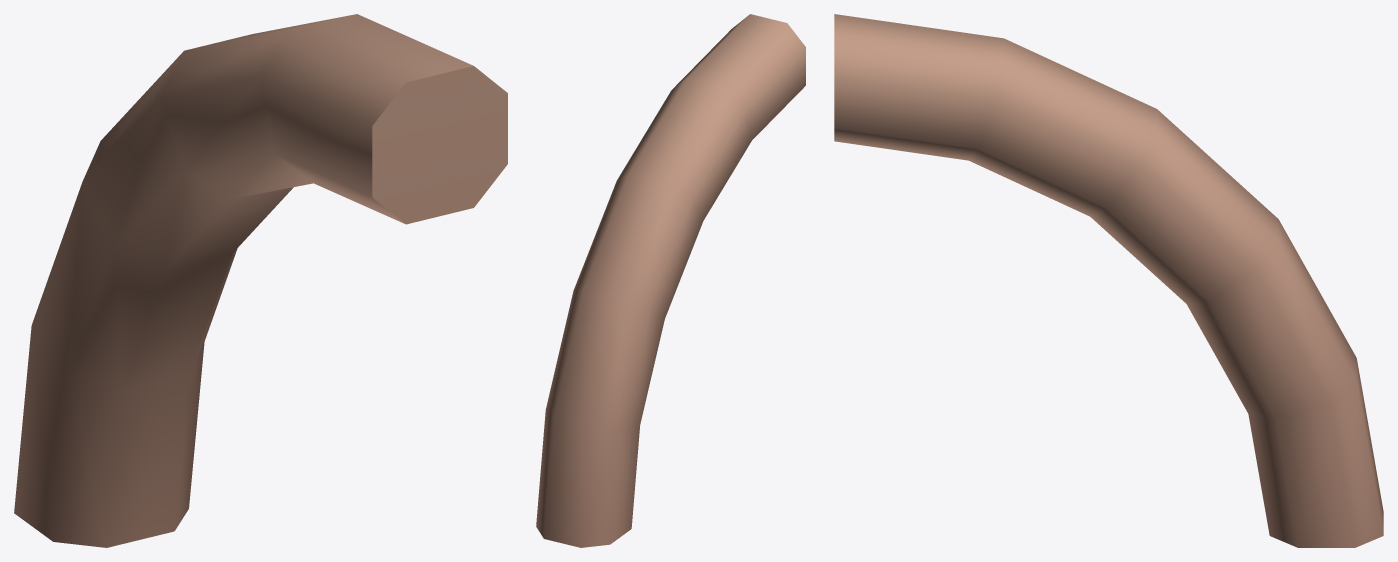
File: organic-twig-curved-large-a.glb
3 renders of one model, left to right at view 1: azimuth 30°, elevation 25°; view 2: azimuth 150°, elevation 25°; view 3: azimuth 270°, elevation 25°, orthographic. The views are drawn at different scales.
Visible parts, largest first — view 1: organic-twig-curved-large-a; view 2: organic-twig-curved-large-a; view 3: organic-twig-curved-large-a.
Part boxes in pixels (bbox=[...]): organic-twig-curved-large-a: bbox=[14, 14, 507, 547]; organic-twig-curved-large-a: bbox=[536, 14, 805, 547]; organic-twig-curved-large-a: bbox=[834, 14, 1383, 547].
Bounding box in the file's own units: 0.05 × 0.241 × 0.241.
